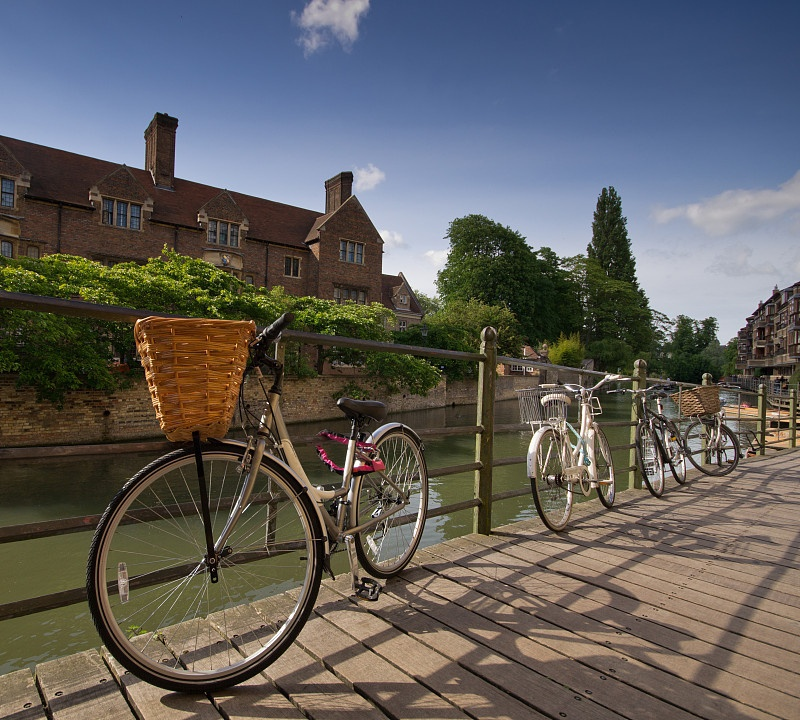non-vehicle: (86, 383, 433, 696), (522, 383, 621, 534), (619, 381, 691, 497)
